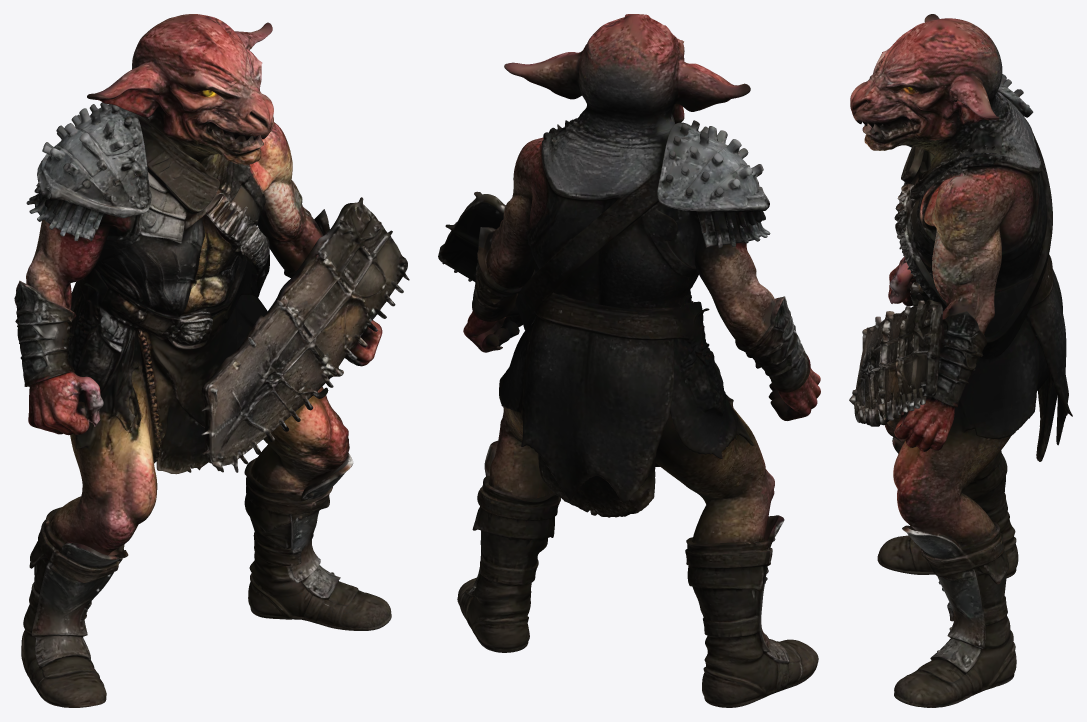
File: kobold.glb
The picture shows the model from 3 angles, left to right: view 1: azimuth 30°, elevation 25°; view 2: azimuth 150°, elevation 25°; view 3: azimuth 270°, elevation 25°; orthographic projection. The views are drawn at different scales.
Parts seen in each view (by area): view 1: material; view 2: material; view 3: material.
Part boxes in pixels (<box>): material: <box>14,14,409,707</box>; material: <box>438,14,820,707</box>; material: <box>849,14,1072,707</box>.
Bounding box in the file's own units: 0.6363 × 1.03 × 0.3443.
Materials: 1 (1 with a texture image).
